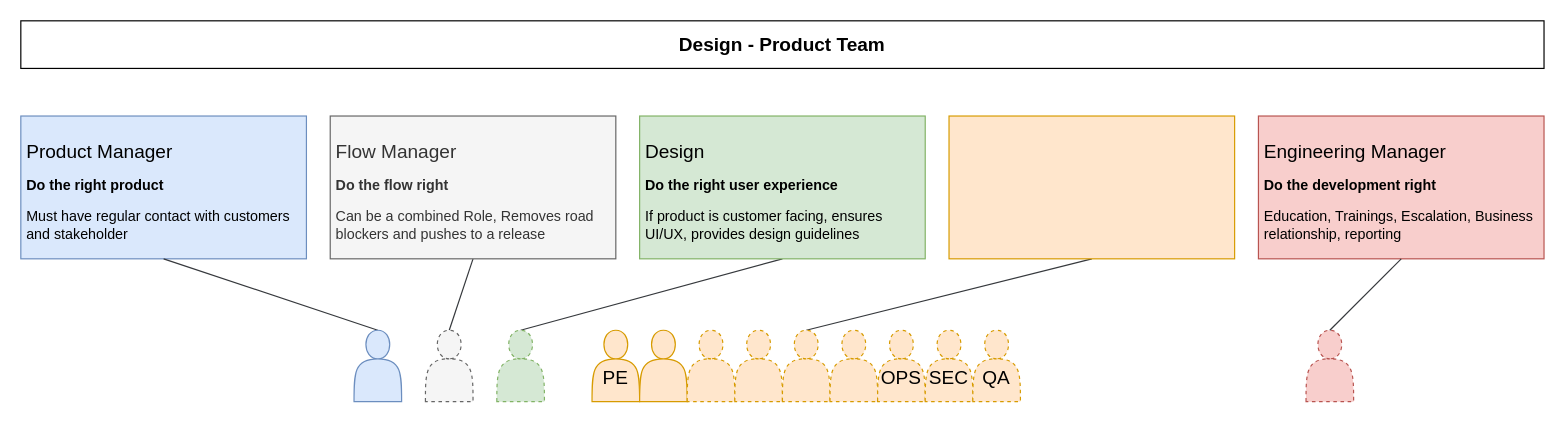
The diagram is 1565 pixels wide and 422 high, and some of its shapes have lost their labels. Here are the shapes that lost their labels. From the top down, the centre of each, then its label:
point (1091, 187): Engineers Do the product right Includes QA, PE, DevOps, .... Min. 2, Max. 9
point (377, 365): PM
point (448, 365): AC
point (520, 365): UX
point (1329, 365): SEM
